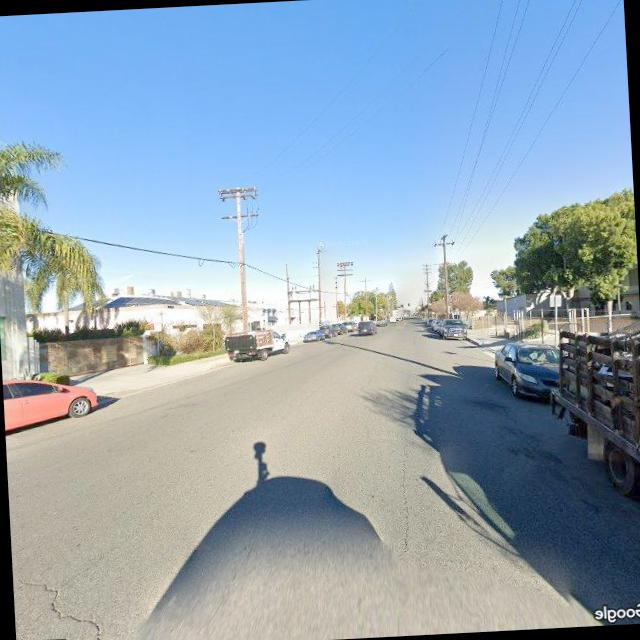crack: (13, 561, 121, 640), (391, 430, 424, 557)
